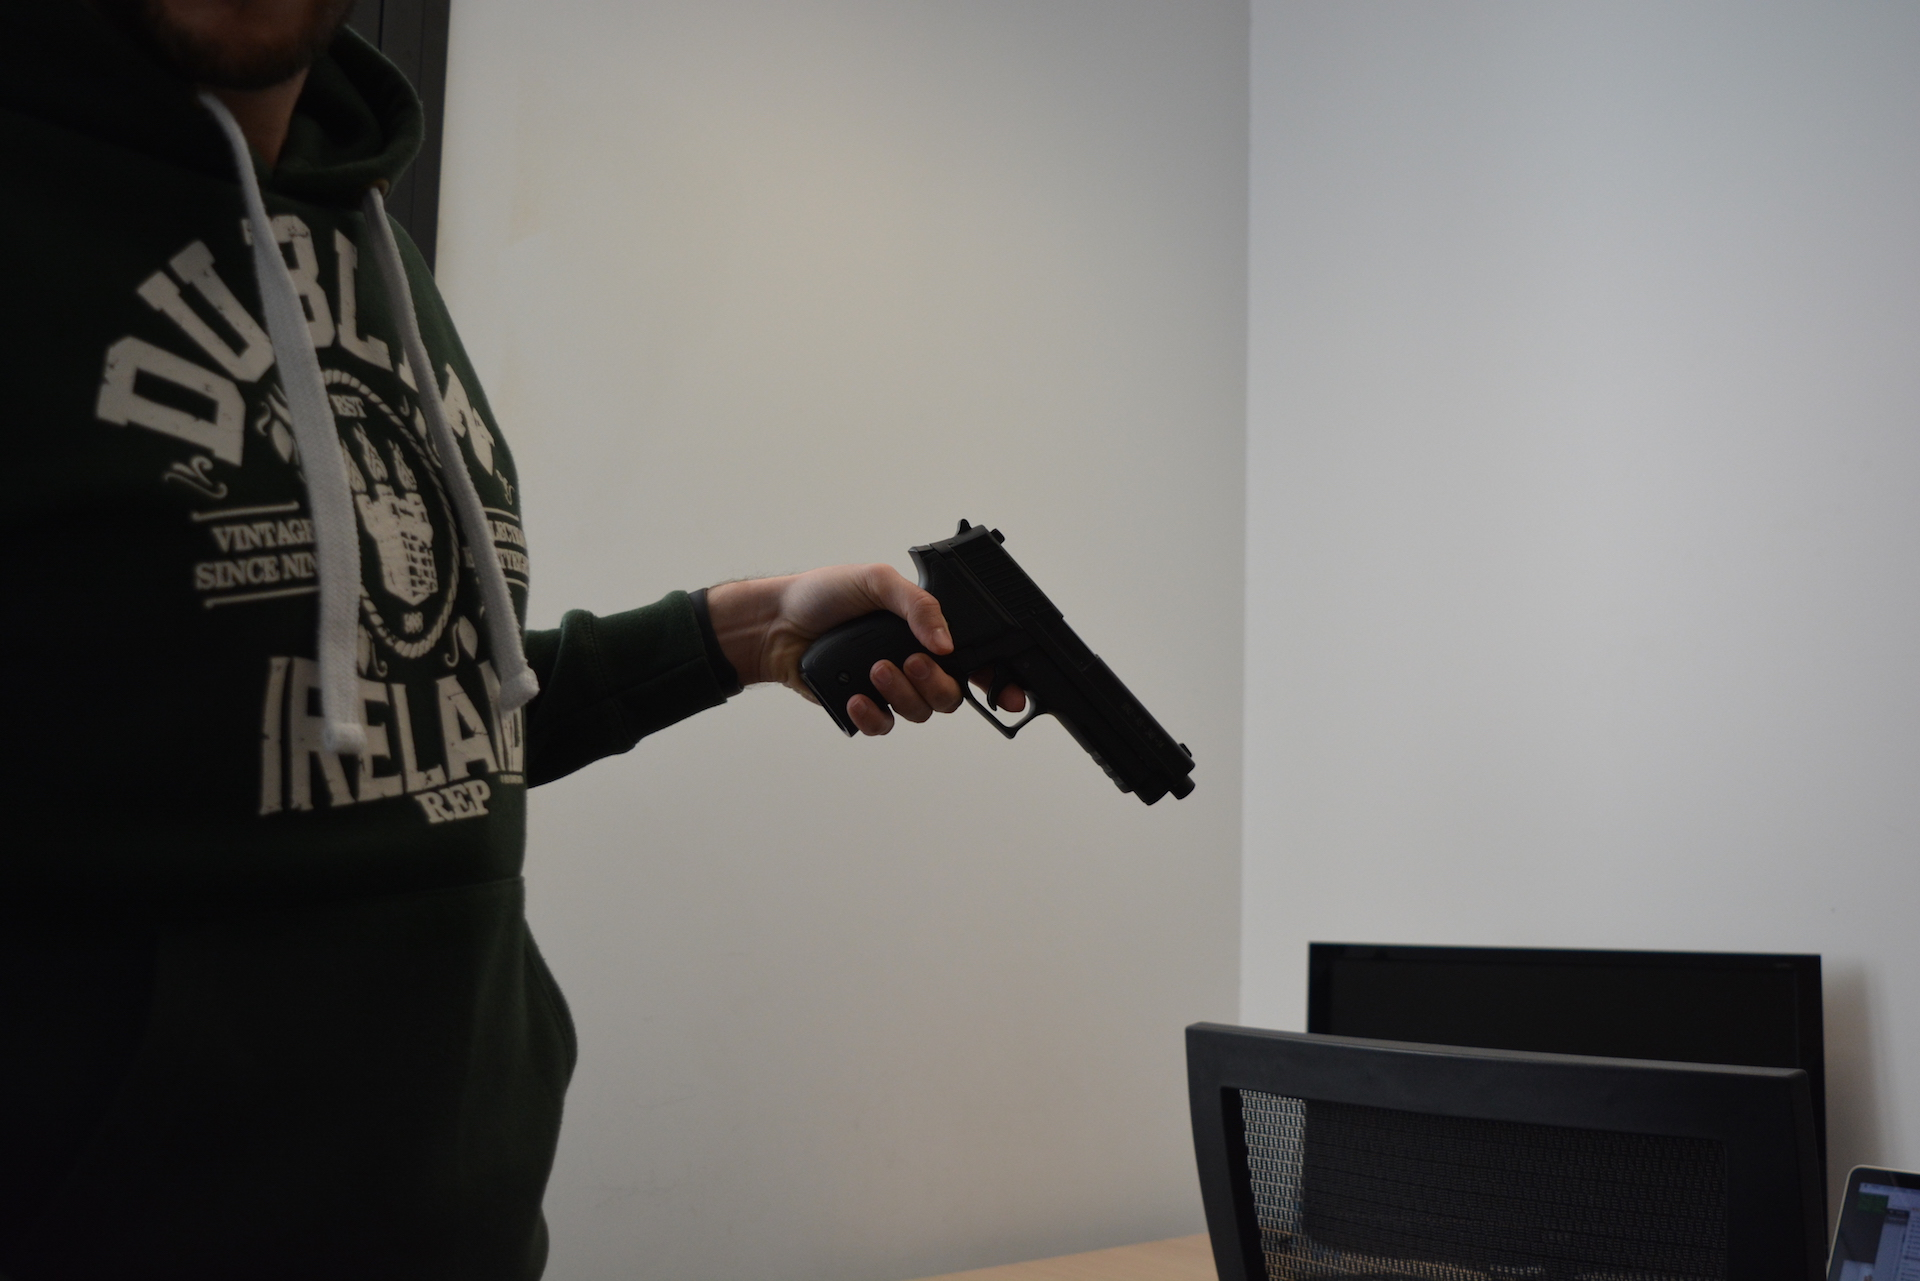pistol: (793, 518, 1199, 808)
